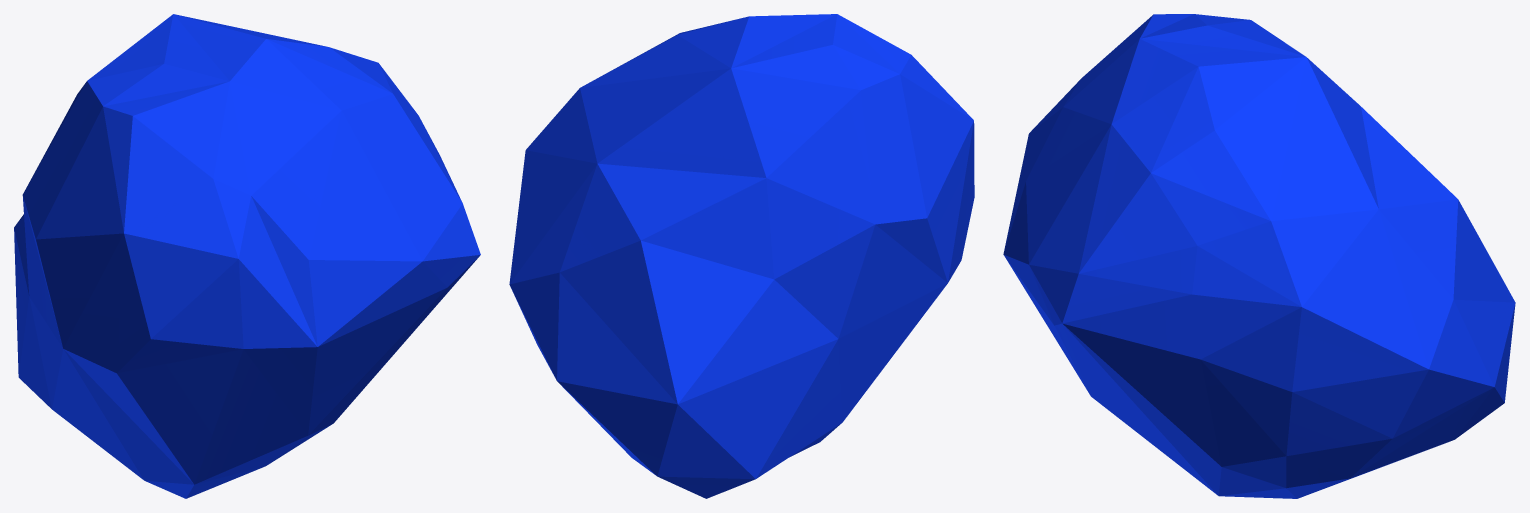
The model's file is SM_emissive_rock_11.fbx.
3 renders of one model, left to right at view 1: azimuth 30°, elevation 25°; view 2: azimuth 150°, elevation 25°; view 3: azimuth 270°, elevation 25°, orthographic. The views are drawn at different scales.
Visible parts, largest first — view 1: emissive_rock_11; view 2: emissive_rock_11; view 3: emissive_rock_11.
Part boxes in pixels (x1=…): emissive_rock_11: x1=14, y1=14, x2=480, y2=498; emissive_rock_11: x1=509, y1=14, x2=974, y2=498; emissive_rock_11: x1=1003, y1=14, x2=1515, y2=498.
Size of the model in its own units: 138 by 147 by 157.
